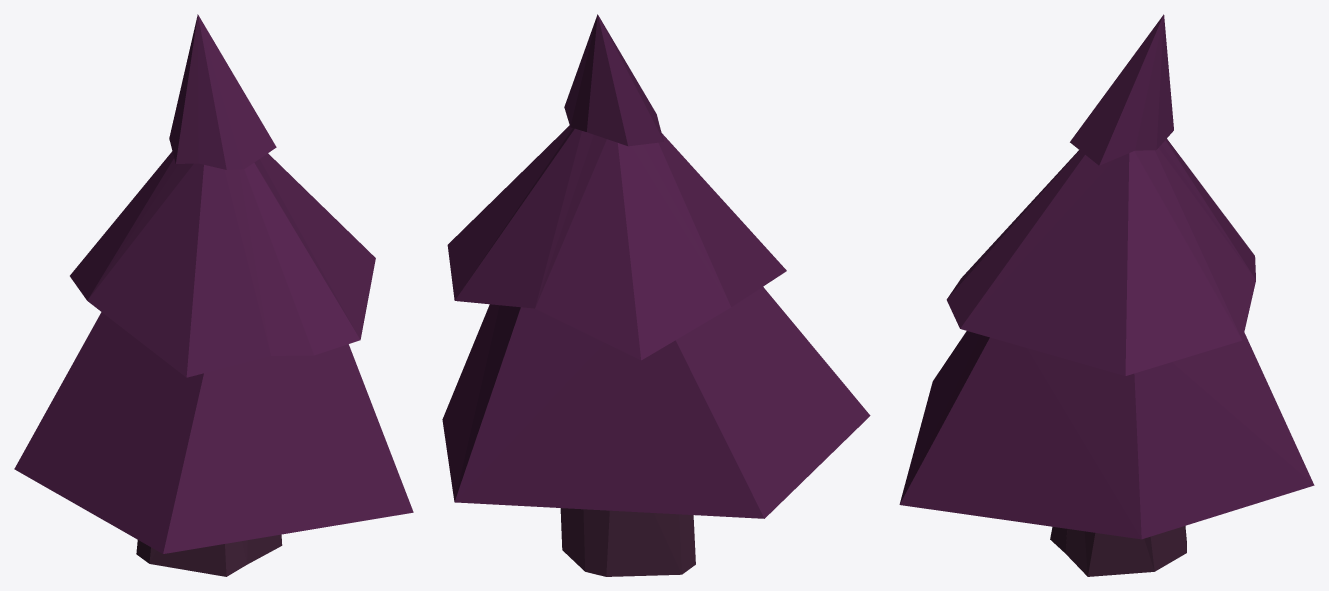
Rendered from Tree3Whole.fbx.
3 renders of one model, left to right at view 1: azimuth 30°, elevation 25°; view 2: azimuth 150°, elevation 25°; view 3: azimuth 270°, elevation 25°, orthographic. The views are drawn at different scales.
Parts seen in each view (by area): view 1: Plane.001; view 2: Plane.001; view 3: Plane.001.
Boxes of the visible parts, x1,y1,x2,y2 form: Plane.001: (14, 14, 413, 576); Plane.001: (442, 14, 870, 576); Plane.001: (899, 14, 1314, 576).
Size of the model in its own units: 258 by 386 by 270.
